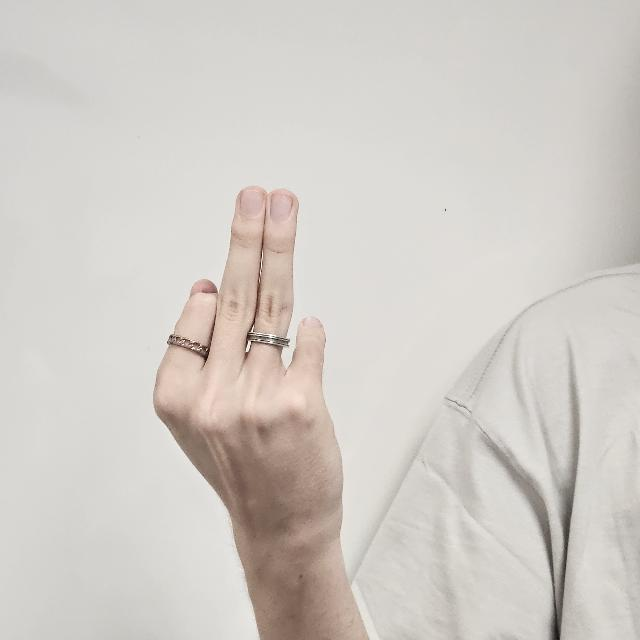R: (155, 187, 343, 579)
